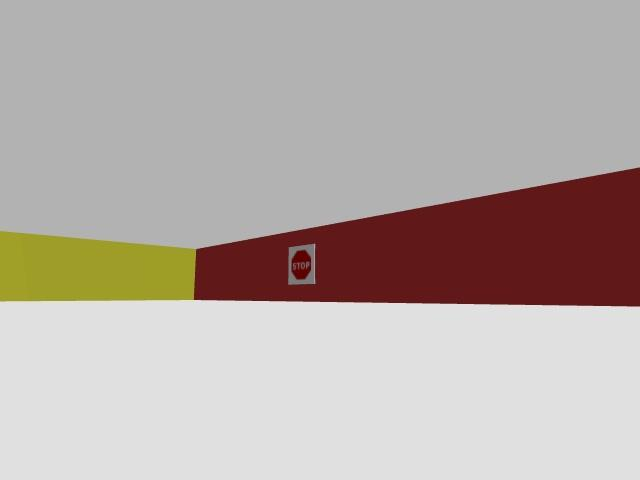stop: (288, 245, 315, 284)
